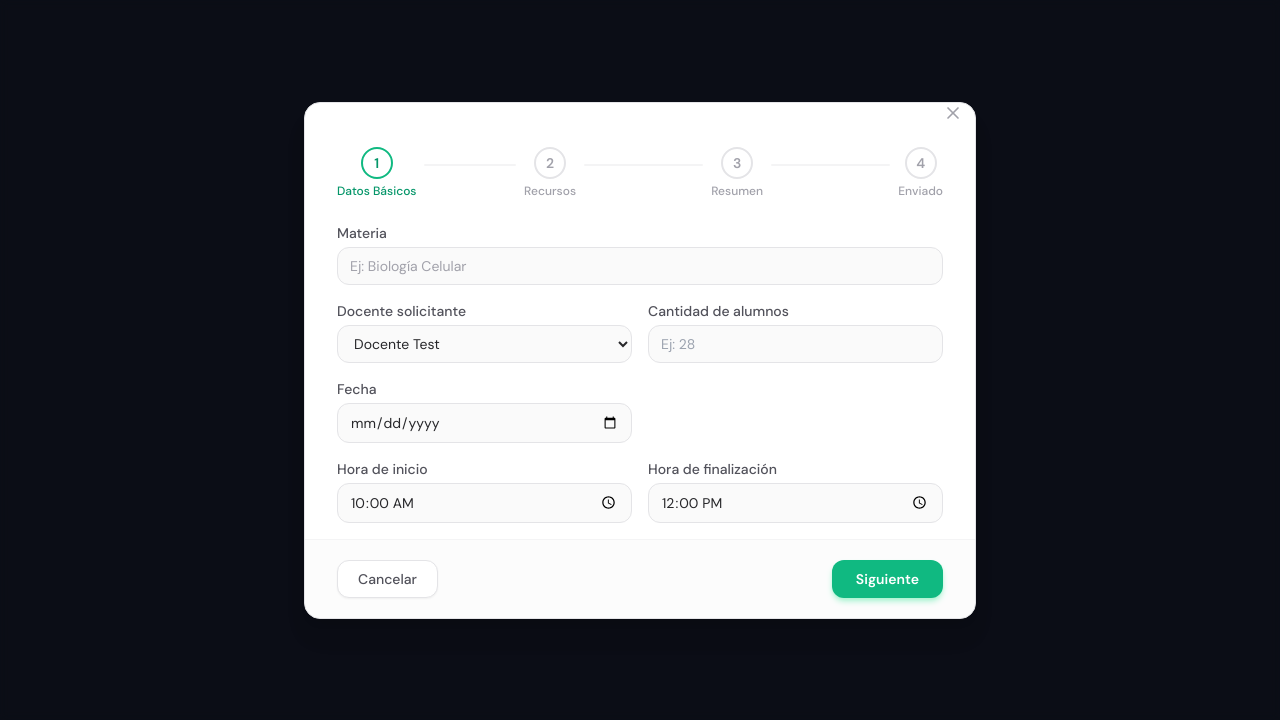
NuevoPedidoForm Component › muestra los errores inline si faltan datos obligatorios en el Paso 0
Step 1. Click the button "Siguiente" → click(887, 578), box [832,560,943,598]
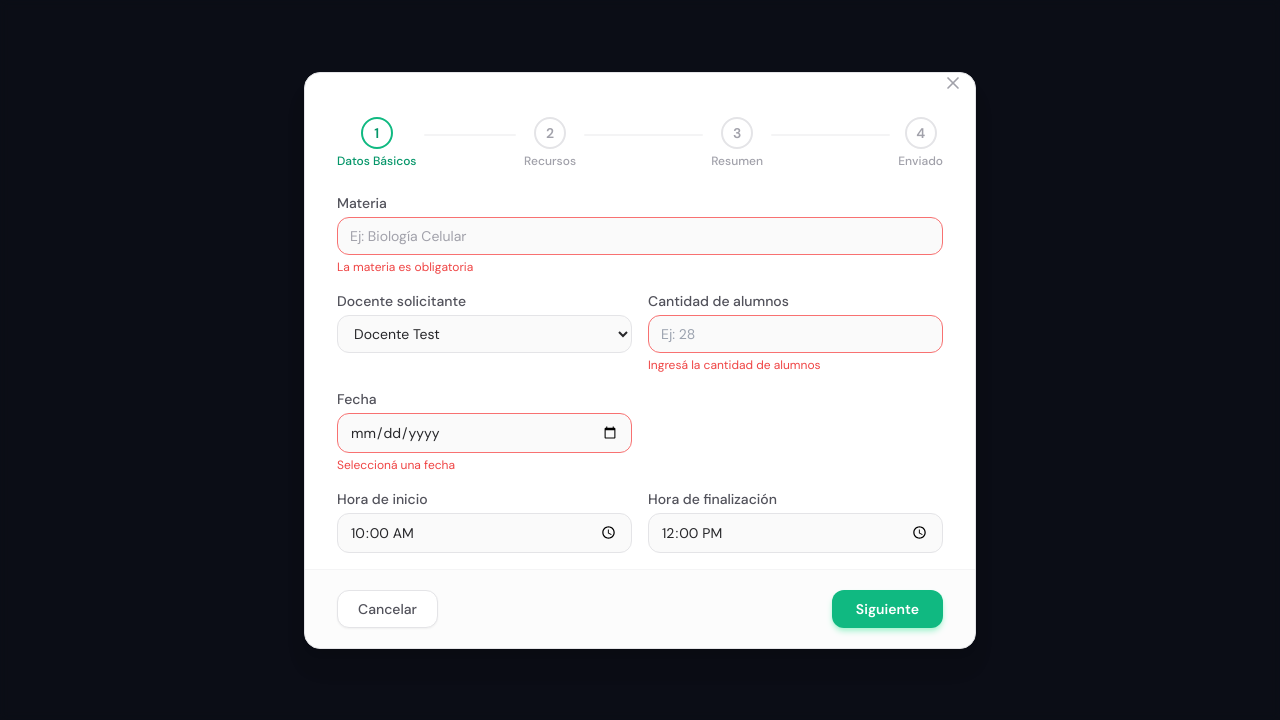
Check: the text "La materia es obligatoria" is shown, box [337,258,473,274]
Check: the text "Ingresá la cantidad de alumnos" is shown, box [648,356,820,372]
Check: the text "Seleccioná una fecha" is shown, box [337,456,455,472]
